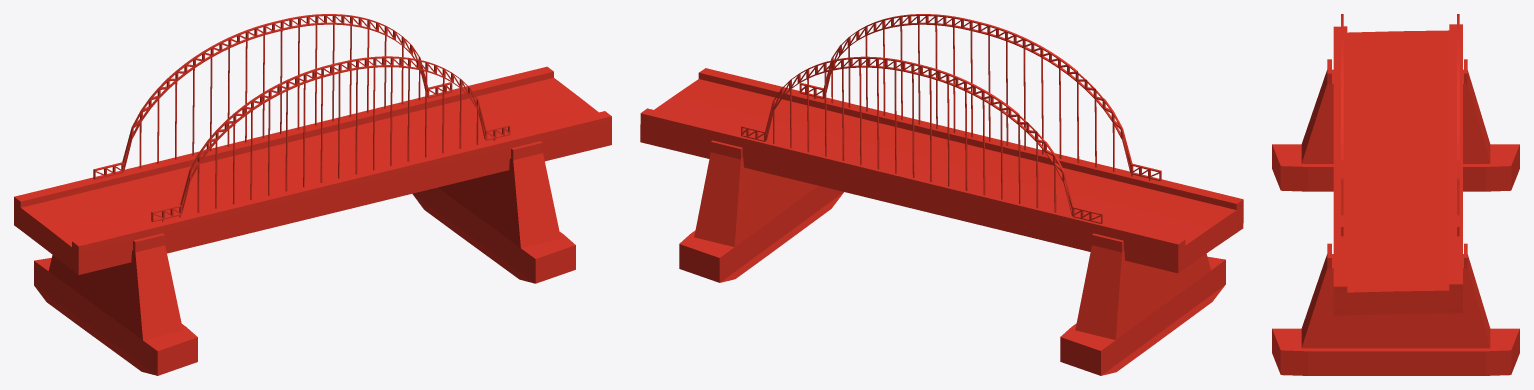
Rendered from bribge.fbx.
3 renders of one model, left to right at view 1: azimuth 30°, elevation 25°; view 2: azimuth 150°, elevation 25°; view 3: azimuth 270°, elevation 25°, orthographic.
Parts seen in each view (by area): view 1: Plane, Cube, Cylinder; view 2: Plane, Cube, Cylinder; view 3: Plane, Cube, Cylinder.
Part boxes in pixels (left/top/right/bottom): Plane: left=14, top=66, right=611, bottom=274; Cube: left=34, top=141, right=575, bottom=375; Cylinder: left=93, top=14, right=510, bottom=221; Plane: left=640, top=68, right=1243, bottom=273; Cube: left=679, top=140, right=1225, bottom=375; Cylinder: left=741, top=14, right=1161, bottom=223; Plane: left=1333, top=24, right=1462, bottom=315; Cube: left=1272, top=59, right=1519, bottom=375; Cylinder: left=1341, top=14, right=1459, bottom=236.
Size of the model in its own units: 16016 by 6907 by 6445.
